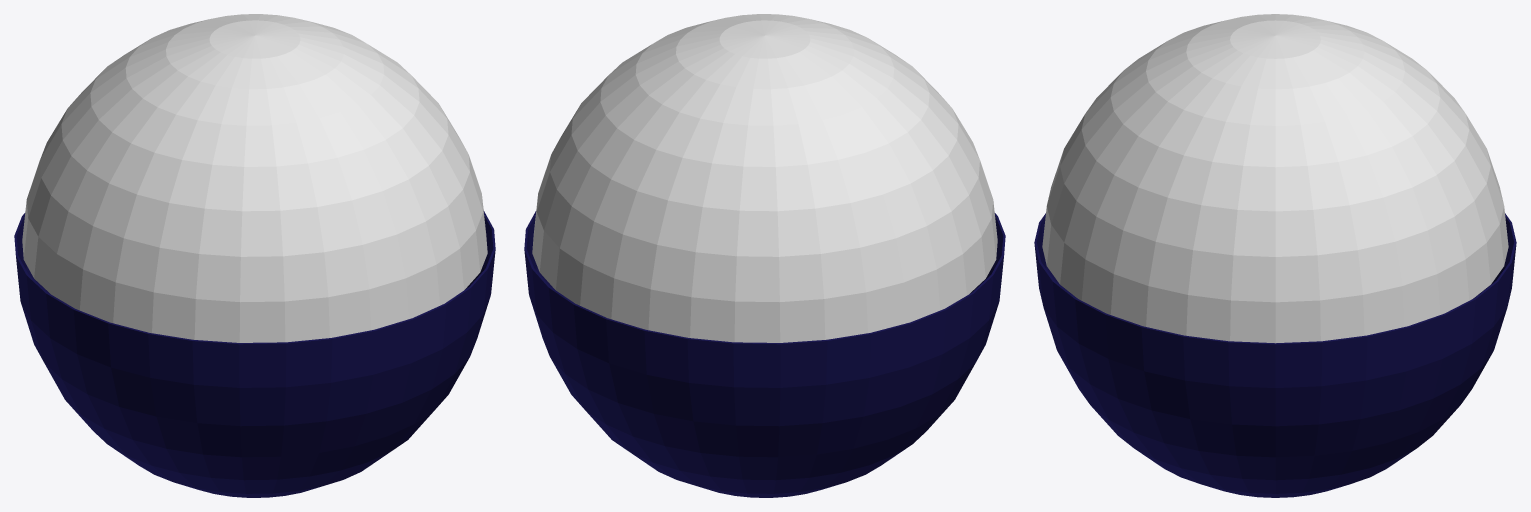
File: Arroz.fbx
3 renders of one model, left to right at view 1: azimuth 30°, elevation 25°; view 2: azimuth 150°, elevation 25°; view 3: azimuth 270°, elevation 25°, orthographic.
Parts seen in each view (by area): view 1: Esfera UV; view 2: Esfera UV; view 3: Esfera UV.
Boxes of the visible parts, bbox=[...] form: Esfera UV: bbox=[14, 14, 495, 497]; Esfera UV: bbox=[524, 14, 1005, 497]; Esfera UV: bbox=[1034, 14, 1516, 497].
Bounding box in the file's own units: 207 × 209 × 207.
